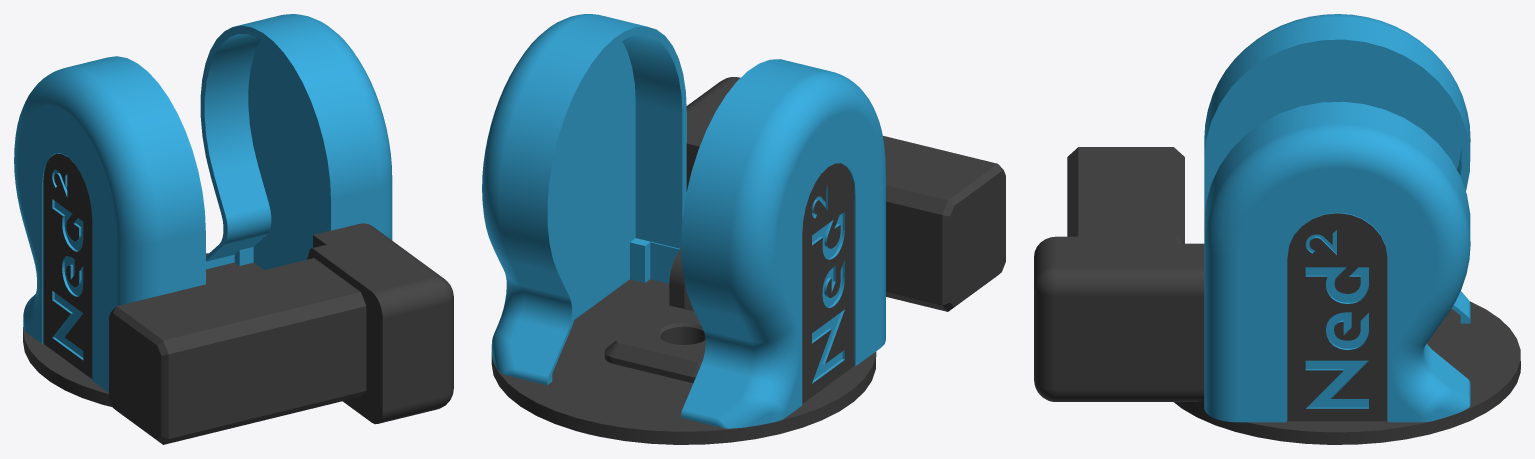
Rendered from shoulder_link.dae.
3 renders of one model, left to right at view 1: azimuth 30°, elevation 25°; view 2: azimuth 150°, elevation 25°; view 3: azimuth 270°, elevation 25°, orthographic. The views are drawn at different scales.
Visible parts, largest first — view 1: _3DGeom-221, _3DGeom-222; view 2: _3DGeom-221, _3DGeom-222; view 3: _3DGeom-221, _3DGeom-222.
Part boxes in pixels (left/top/right/bottom): _3DGeom-221: left=14, top=14, right=392, bottom=392; _3DGeom-222: left=23, top=154, right=453, bottom=444; _3DGeom-221: left=482, top=14, right=885, bottom=428; _3DGeom-222: left=491, top=77, right=1005, bottom=444; _3DGeom-221: left=1204, top=14, right=1470, bottom=422; _3DGeom-222: left=1034, top=147, right=1520, bottom=444.
Size of the model in its own units: 0.1387 by 0.1753 by 0.1179.
